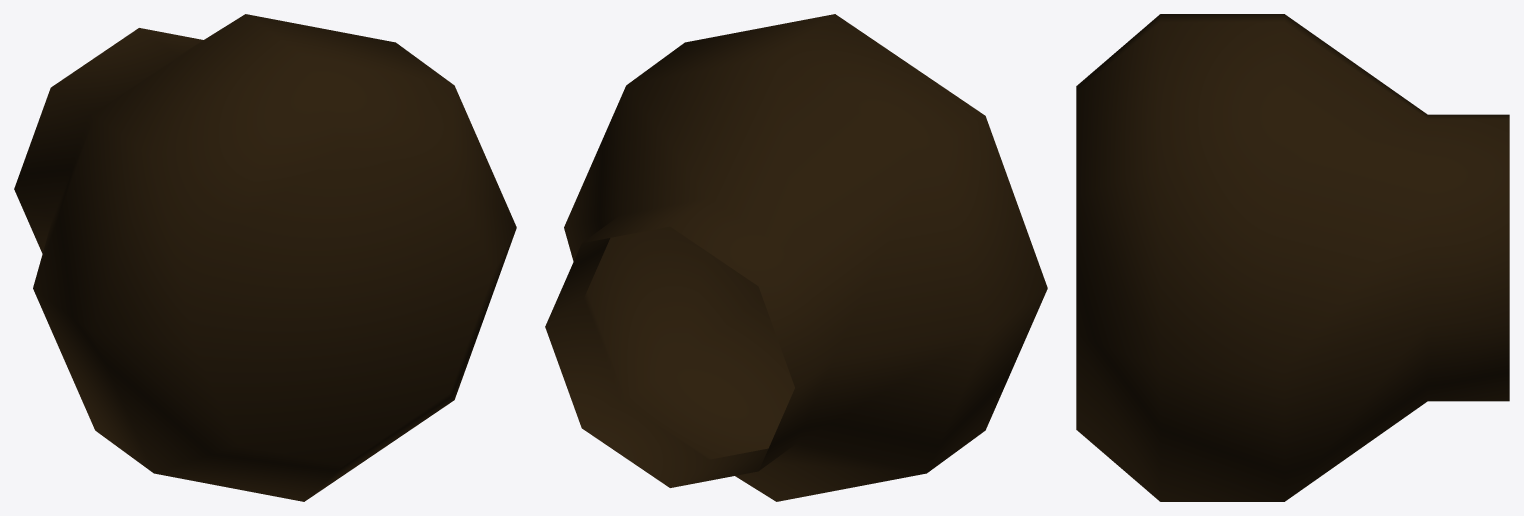
Rendered from handle.obj.
3 views of the same model, side by side, from view 1: azimuth 30°, elevation 25°; view 2: azimuth 150°, elevation 25°; view 3: azimuth 270°, elevation 25° (orthographic). The views are drawn at different scales.
Parts seen in each view (by area): view 1: Cylinder; view 2: Cylinder; view 3: Cylinder.
Boxes of the visible parts, x1,y1,x2,y2 form: Cylinder: (14,14,516,501); Cylinder: (545,14,1047,501); Cylinder: (1076,14,1509,501).
Bounding box in the file's own units: 0.04 × 0.04 × 0.0334.
